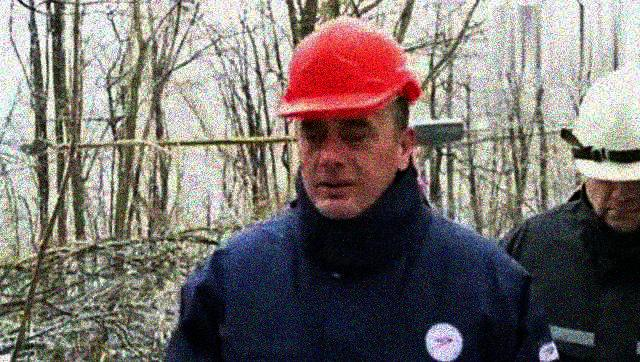helmet: (274, 16, 421, 219), (565, 66, 640, 237)
